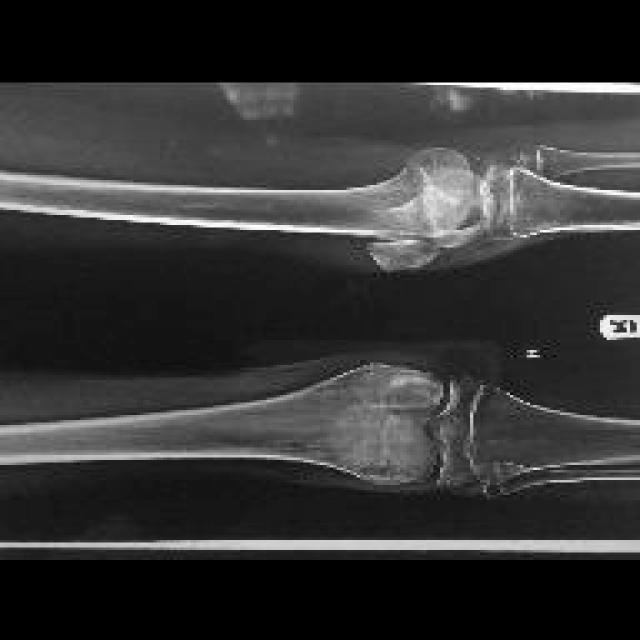bone-cancer: (369, 242, 437, 272)
